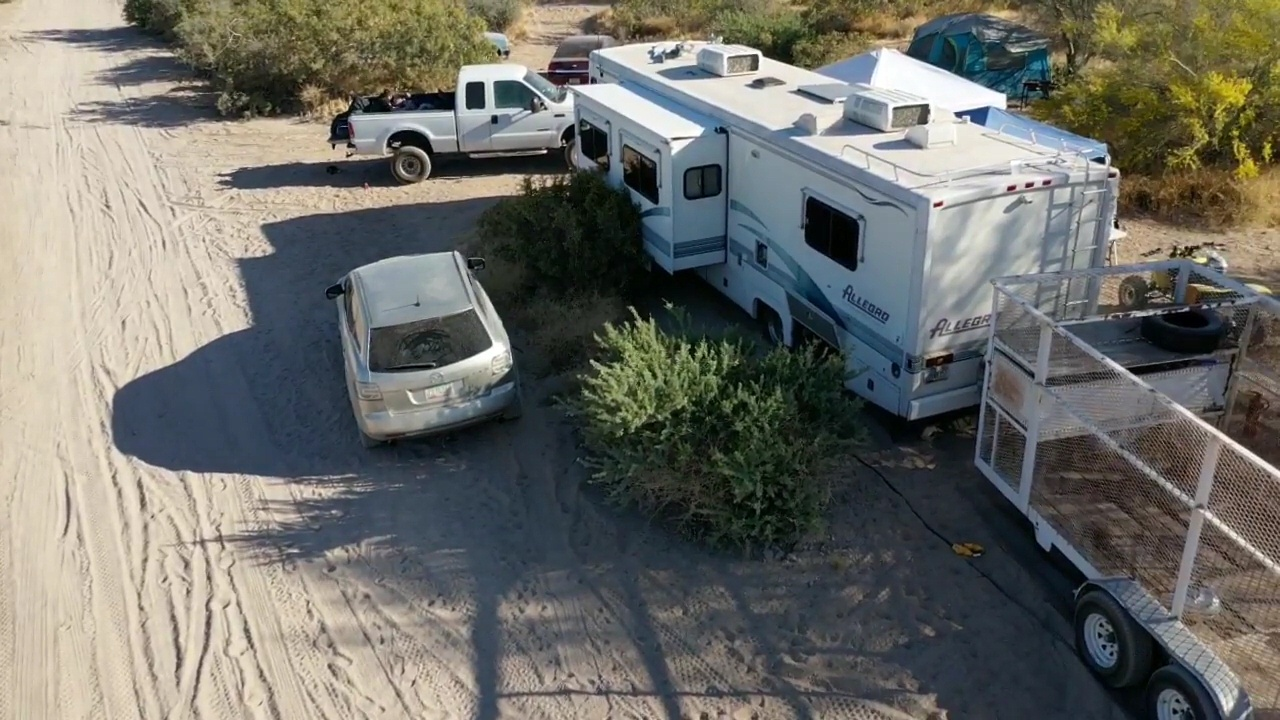araba: (327, 238, 517, 446), (549, 29, 624, 93)
kamyonet: (325, 60, 629, 181)
